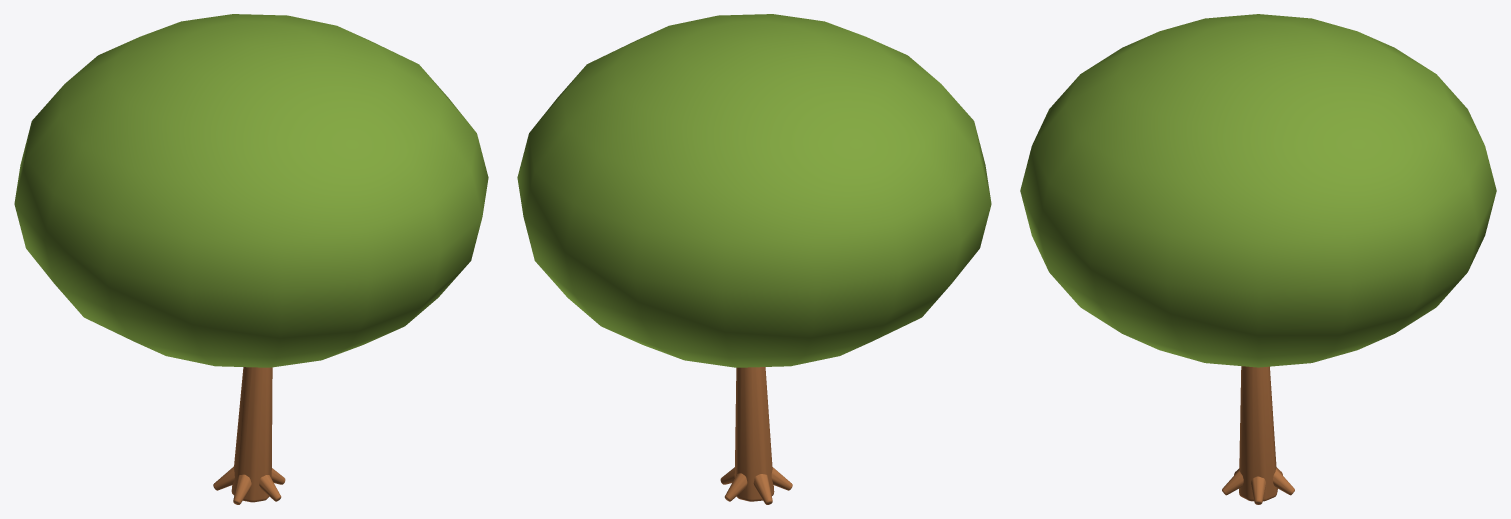
3 renders of one model, left to right at view 1: azimuth 30°, elevation 25°; view 2: azimuth 150°, elevation 25°; view 3: azimuth 270°, elevation 25°, orthographic.
Parts seen in each view (by area): view 1: crownProxy, body; view 2: crownProxy, body; view 3: crownProxy, body.
Boxes of the visible parts, x1,y1,x2,y2 form: crownProxy: (14,14,488,367); body: (231,367,272,502); crownProxy: (517,14,991,367); body: (734,367,774,501); crownProxy: (1020,14,1496,367); body: (1239,366,1277,501).
Bounding box in the file's own units: 5.2 × 5.41 × 5.2.
